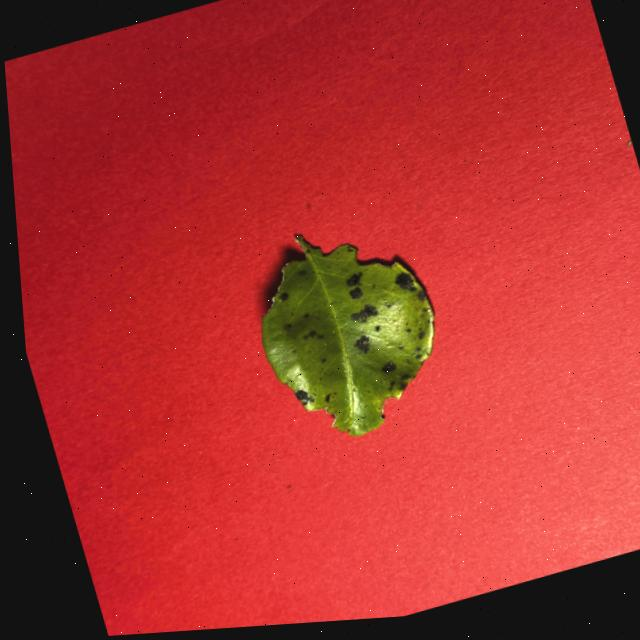sooty_mold: (262, 236, 434, 435)
